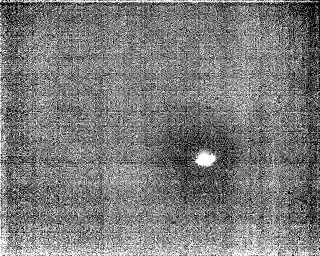AIRPLANE: (192, 148, 217, 169)
